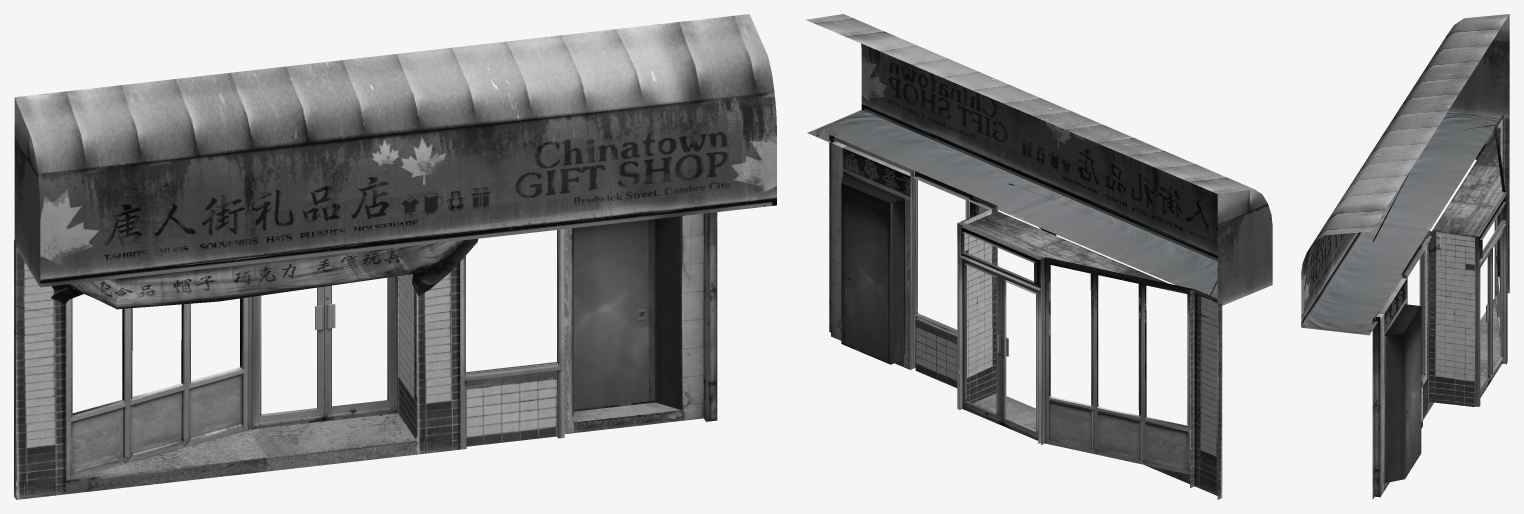
The model's file is chinatown_gift_shop.fbx.
3 renders of one model, left to right at view 1: azimuth 30°, elevation 25°; view 2: azimuth 150°, elevation 25°; view 3: azimuth 270°, elevation 25°, orthographic. The views are drawn at different scales.
Visible parts, largest first — view 1: chinatown_gift_shop; view 2: chinatown_gift_shop; view 3: chinatown_gift_shop.
Boxes of the visible parts, x1,y1,x2,y2 form: chinatown_gift_shop: (14,14,776,499); chinatown_gift_shop: (805,14,1272,499); chinatown_gift_shop: (1301,14,1509,499).
Size of the model in its own units: 824 by 477 by 322.
